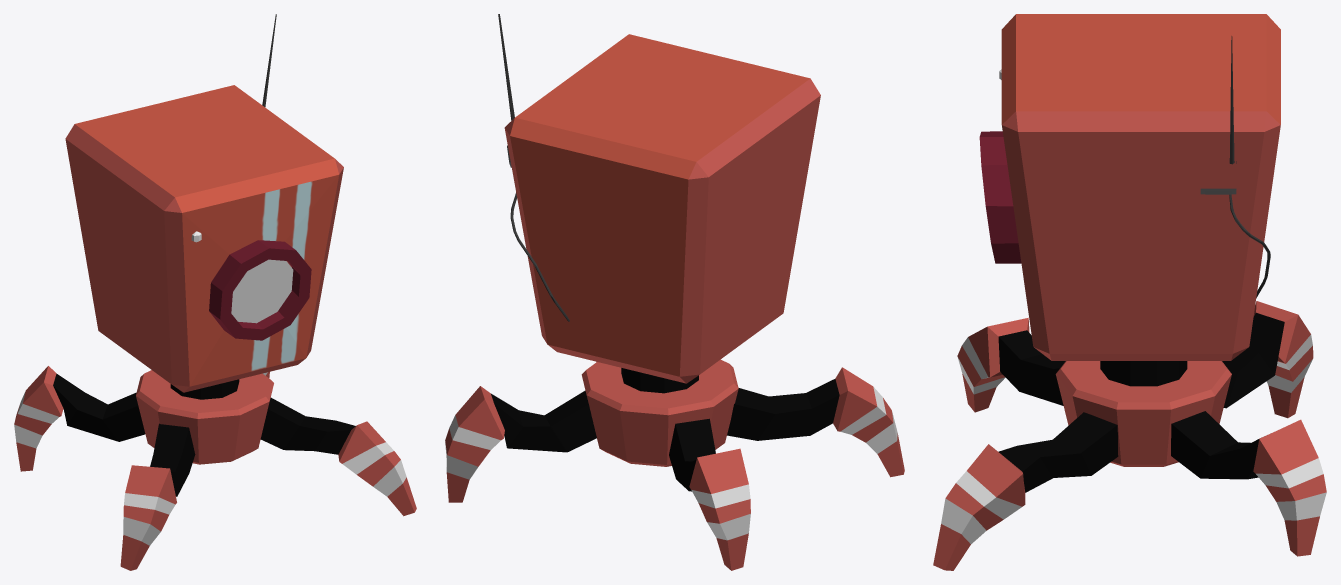
The model's file is Robot.fbx.
3 renders of one model, left to right at view 1: azimuth 30°, elevation 25°; view 2: azimuth 150°, elevation 25°; view 3: azimuth 270°, elevation 25°, orthographic. The views are drawn at different scales.
Visible parts, largest first — view 1: MainPart, Cube.000, Cube.002, Cube.001, Flash; view 2: MainPart, Cube.001, Cube.003, Cube.002, Radar; view 3: MainPart, Cube.000, Cube.003, Cube.002, Cube.001, Radar.
Boxes of the visible parts, x1=… form: MainPart: x1=65, y1=85, x2=343, y2=464; Cube.000: x1=260, y1=397, x2=416, y2=516; Cube.002: x1=14, y1=366, x2=145, y2=471; Cube.001: x1=120, y1=423, x2=195, y2=570; Flash: x1=231, y1=259, x2=293, y2=323; MainPart: x1=504, y1=34, x2=820, y2=466; Cube.001: x1=727, y1=367, x2=904, y2=477; Cube.003: x1=445, y1=386, x2=596, y2=502; Cube.002: x1=669, y1=418, x2=750, y2=570; Radar: x1=498, y1=14, x2=569, y2=321; MainPart: x1=979, y1=14, x2=1280, y2=466; Cube.000: x1=933, y1=412, x2=1118, y2=570; Cube.003: x1=1171, y1=411, x2=1326, y2=556; Cube.002: x1=1222, y1=301, x2=1313, y2=418; Cube.001: x1=957, y1=317, x2=1065, y2=412; Radar: x1=1200, y1=36, x2=1270, y2=297.
Size of the model in its own units: 279 by 398 by 271.
Materials: 7 (1 with a texture image).
